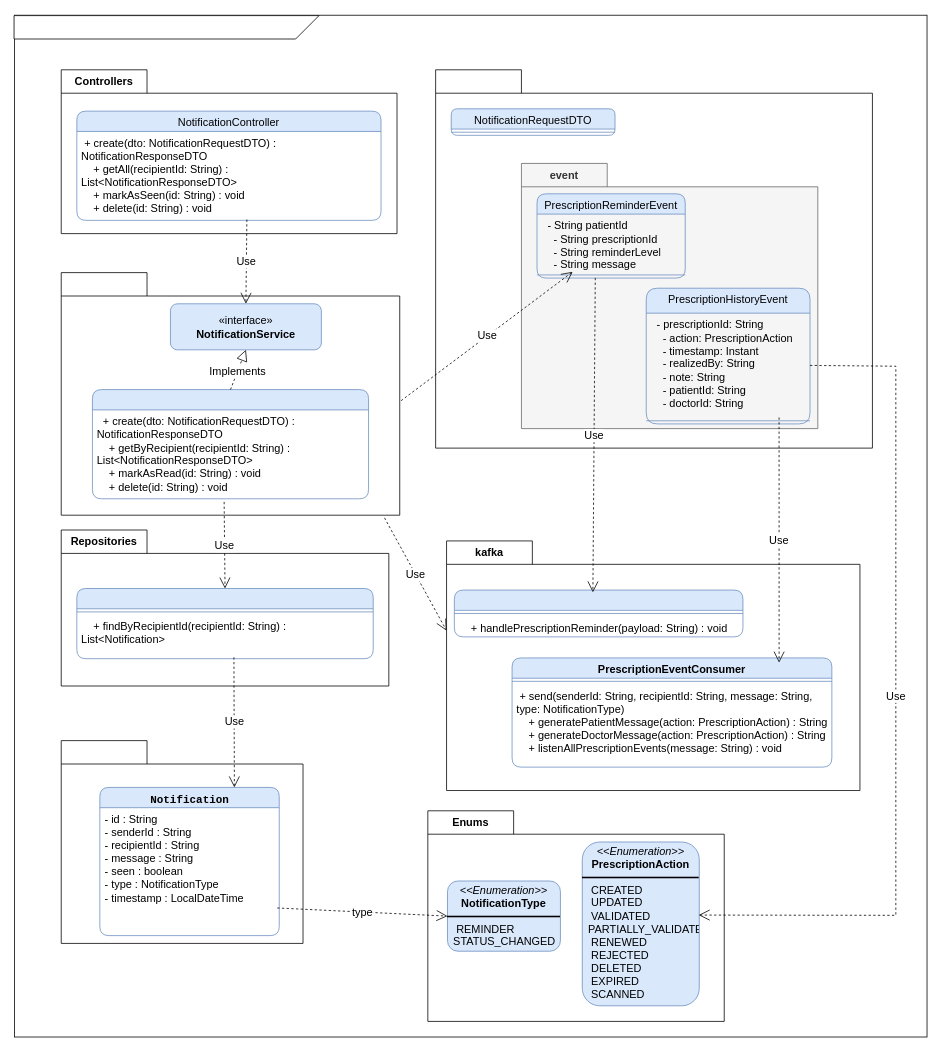
This 941x1051 diagram has some shape labels left out. Each missing label, with the box of its shape:
DTOs: (435, 69, 872, 448)
Entites: (60, 740, 303, 943)
Notification-service -DC: (13, 15, 319, 39)
NotificationRepository: (76, 588, 373, 659)
NotificationServiceImpl: (92, 389, 369, 499)
PatientEventConsumer: (454, 589, 743, 637)
Services: (60, 272, 400, 515)
